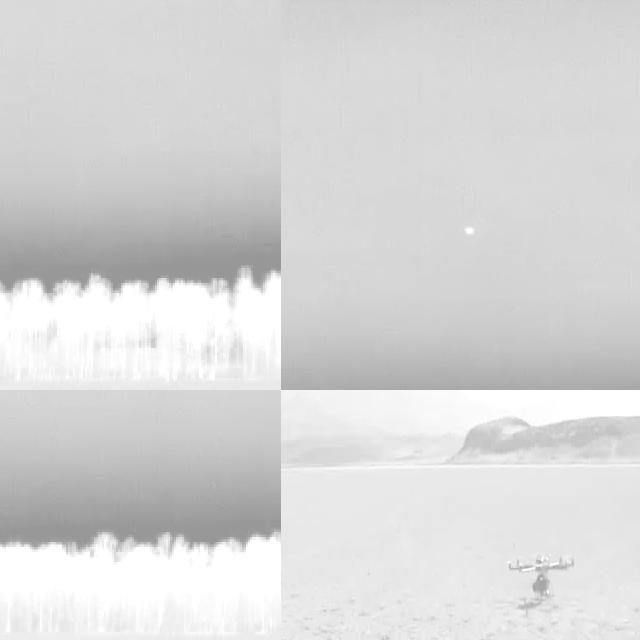1: (462, 221, 486, 246)
drone: (506, 545, 575, 594)
